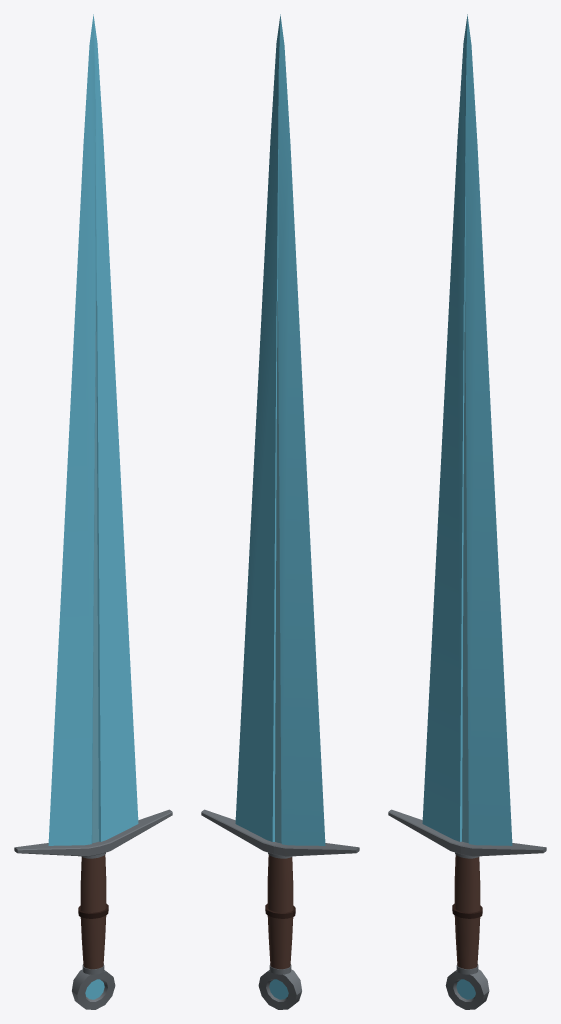
Rendered from SM_Sword06_Dagesse__6Fantasy_Blue.fbx.
3 views of the same model, side by side, from view 1: azimuth 30°, elevation 25°; view 2: azimuth 150°, elevation 25°; view 3: azimuth 330°, elevation 25° (orthographic).
Parts seen in each view (by area): view 1: Cube.365, Cylinder.492, Cube.364, Cylinder.493; view 2: Cube.365, Cylinder.492, Cube.364, Cylinder.493; view 3: Cube.365, Cylinder.492, Cube.364, Cylinder.493.
Boxes of the visible parts, x1,y1,x2,y2 form: Cube.365: (48, 14, 138, 845); Cylinder.492: (78, 852, 108, 974); Cube.364: (14, 809, 172, 856); Cylinder.493: (72, 969, 115, 1009); Cube.365: (235, 14, 325, 845); Cylinder.492: (265, 852, 295, 974); Cube.364: (201, 809, 359, 856); Cylinder.493: (258, 969, 301, 1009); Cube.365: (422, 14, 512, 845); Cylinder.492: (452, 852, 482, 974); Cube.364: (388, 809, 546, 856); Cylinder.493: (445, 969, 489, 1009).
Bounding box in the file's own units: 0.154 × 0.9449 × 0.0231.
